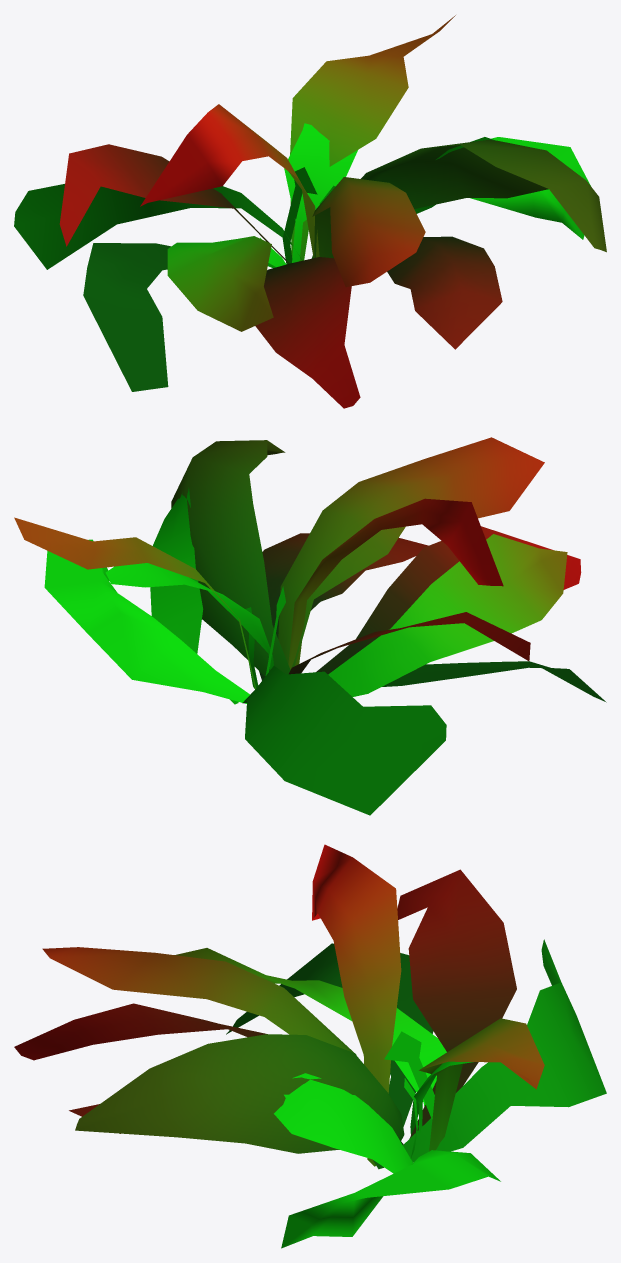
The model's file is Fern_LOD1_Var5_rmAsg.fbx.
3 renders of one model, top to bottom at view 1: azimuth 30°, elevation 25°; view 2: azimuth 150°, elevation 25°; view 3: azimuth 270°, elevation 25°, orthographic. The views are drawn at different scales.
Visible parts, largest first — view 1: _725a_Var5_LOD1; view 2: _725a_Var5_LOD1; view 3: _725a_Var5_LOD1.
Boxes of the visible parts, bbox=[...] form: _725a_Var5_LOD1: bbox=[14, 15, 606, 408]; _725a_Var5_LOD1: bbox=[14, 437, 606, 815]; _725a_Var5_LOD1: bbox=[14, 844, 606, 1248].
Size of the model in its own units: 149 by 63.1 by 138.
